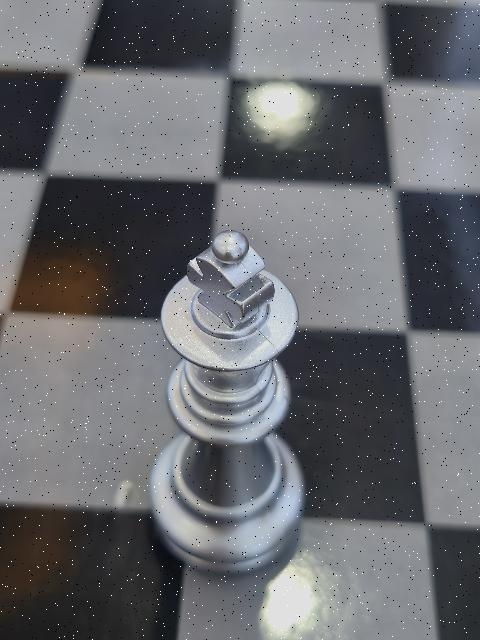white_king: (150, 229, 306, 577)
